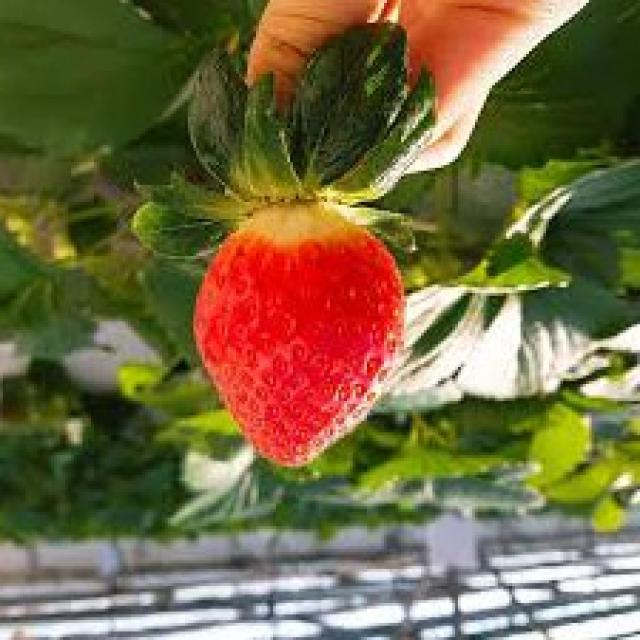straw-ripe: (191, 198, 407, 467)
